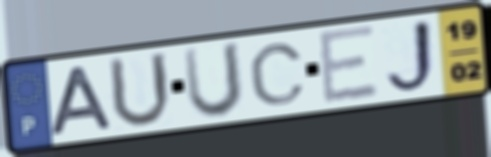A: (47, 62, 118, 139)
C: (246, 41, 309, 108)
E: (315, 22, 383, 108)
J: (382, 17, 442, 97)
U: (105, 50, 174, 131), (180, 39, 246, 122)
